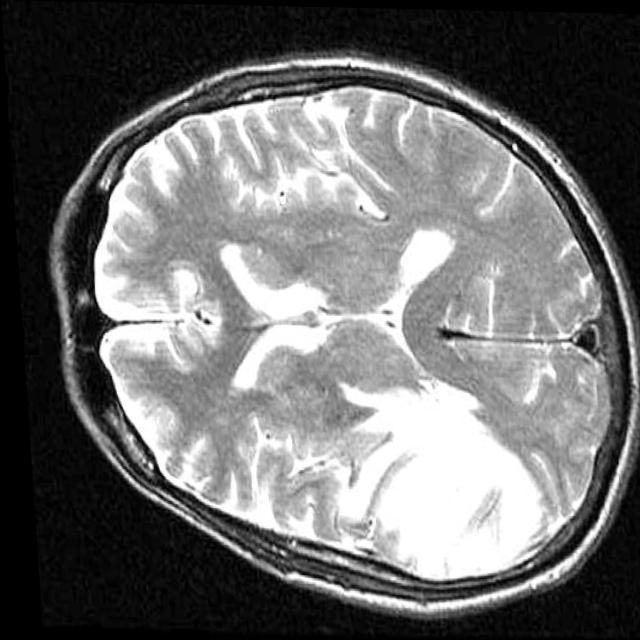Tumor: (317, 362, 547, 593)
